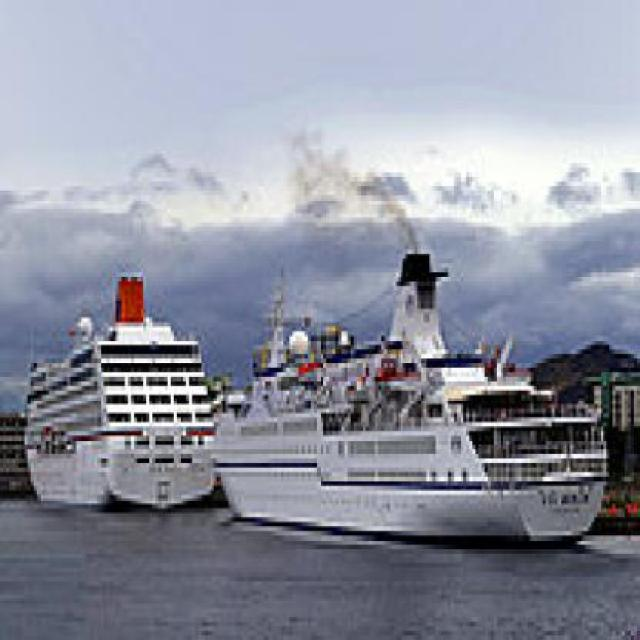cruise: (208, 232, 617, 555), (22, 264, 226, 536)
